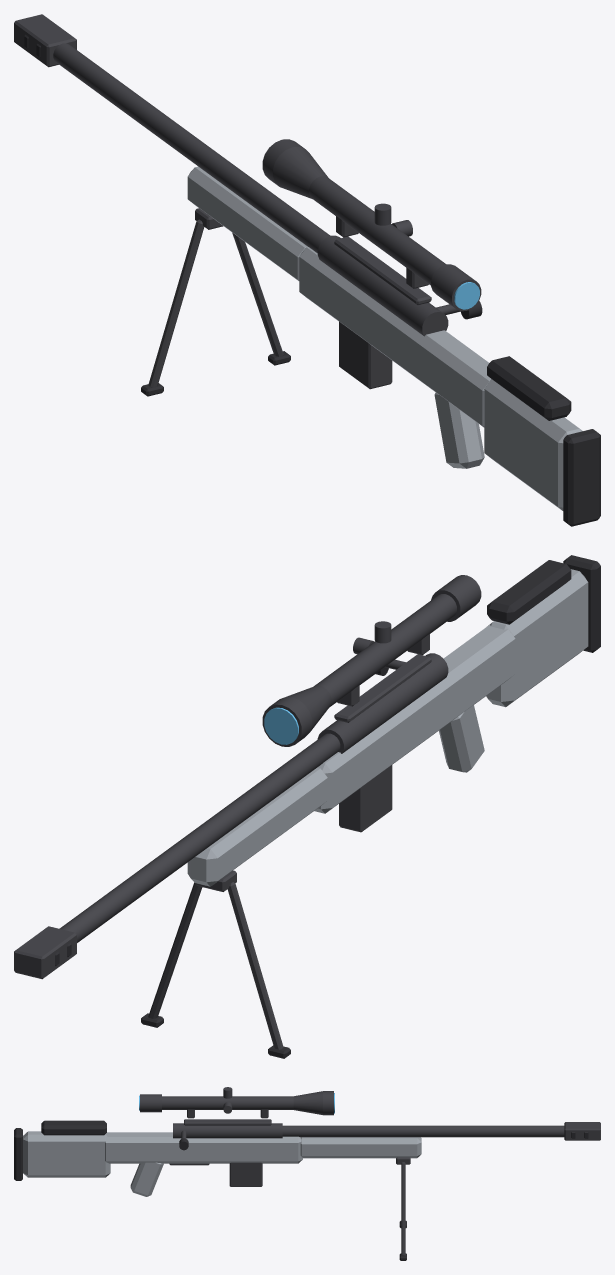
File: Longbow.fbx
The picture shows the model from 3 angles, top to bottom: view 1: azimuth 30°, elevation 25°; view 2: azimuth 150°, elevation 25°; view 3: azimuth 270°, elevation 25°; orthographic projection. The views are drawn at different scales.
Parts seen in each view (by area): view 1: Longbow; view 2: Longbow; view 3: Longbow.
Part boxes in pixels (left/top/right/bottom): Longbow: left=14, top=14, right=600, bottom=526; Longbow: left=14, top=555, right=600, bottom=1058; Longbow: left=14, top=1087, right=600, bottom=1260.
Bounding box in the file's own units: 0.2406 × 0.464 × 1.6.
